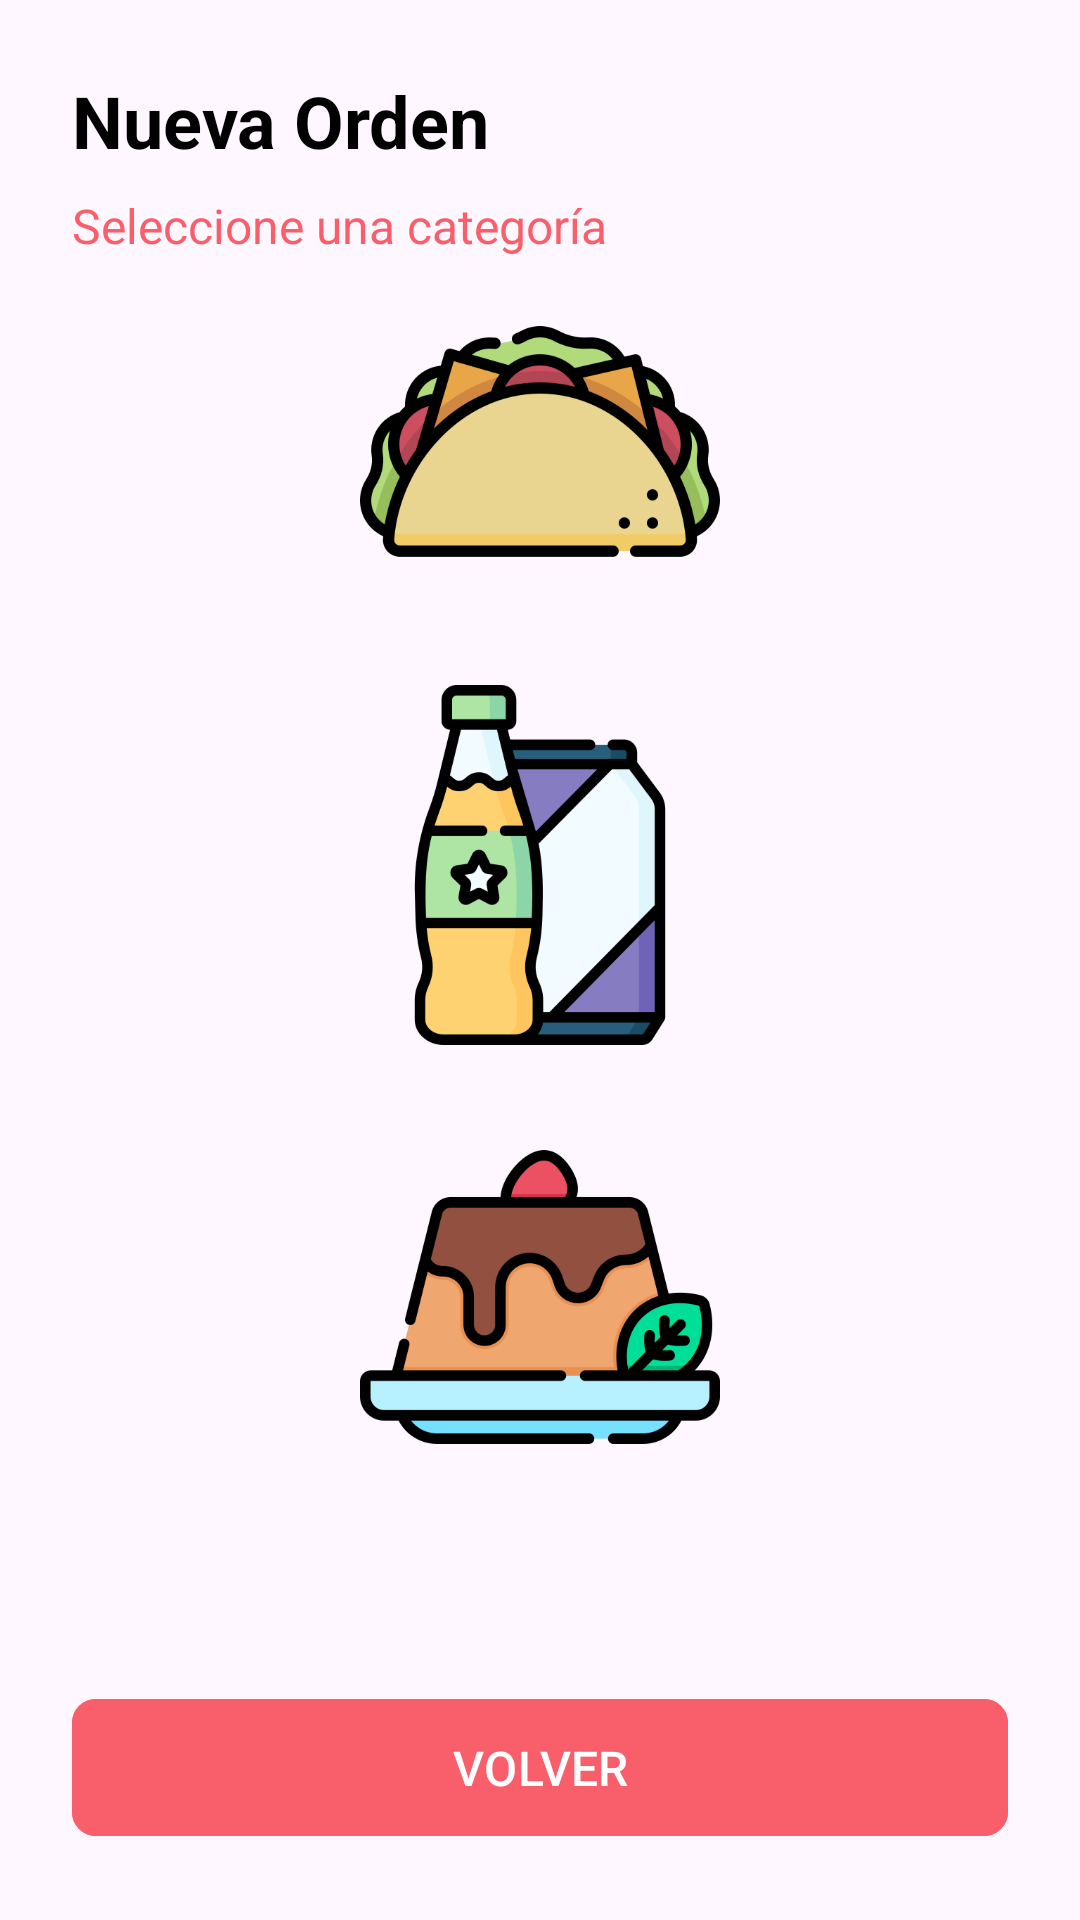

Point at icon controls on the screen. Image size 1080px×1920px, points as point (x, y).
bebida: point (540, 865)
comida: point (540, 441)
postre: point (540, 1297)
